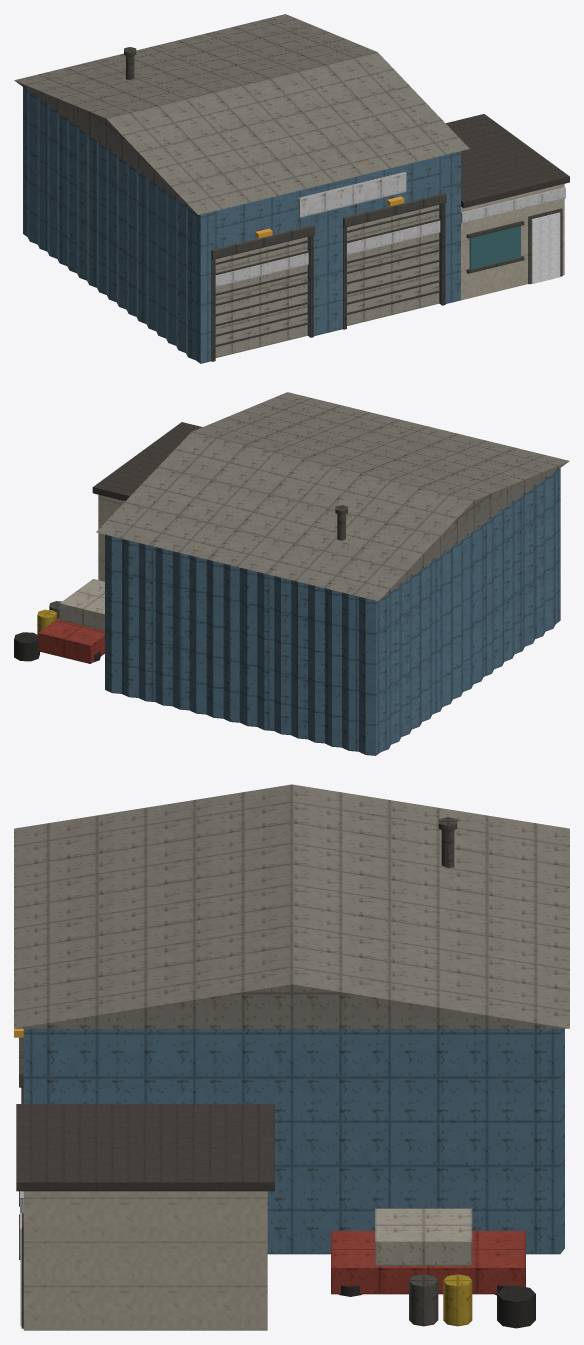
3 renders of one model, top to bottom at view 1: azimuth 30°, elevation 25°; view 2: azimuth 150°, elevation 25°; view 3: azimuth 270°, elevation 25°, orthographic. The views are drawn at different scales.
Visible parts, largest first — view 1: site_garage_restored; view 2: site_garage_restored; view 3: site_garage_restored.
Part boxes in pixels (x1=…): site_garage_restored: x1=14, y1=14, x2=569, y2=363; site_garage_restored: x1=14, y1=392, x2=569, y2=755; site_garage_restored: x1=14, y1=784, x2=569, y2=1330.
Bounding box in the file's own units: 13.3 × 6.62 × 11.4.
13 materials, 13 textured.
